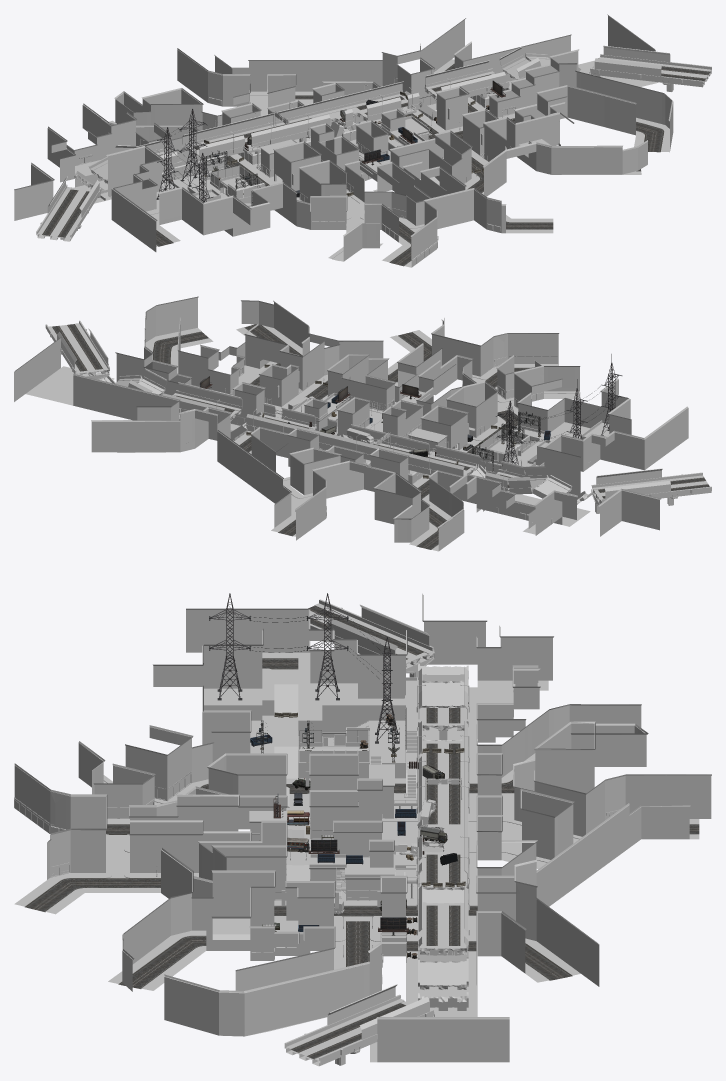
The model's file is Breakdown_World.obj.
3 renders of one model, top to bottom at view 1: azimuth 30°, elevation 25°; view 2: azimuth 150°, elevation 25°; view 3: azimuth 270°, elevation 25°, orthographic. The views are drawn at different scales.
Visible parts, largest first — view 1: Breakdown_Building, Breakdown_overpass, Breakdown_road, Breakdown_obj1, Breakdown_Building_Alpha_, Breakdown_obj2, Wire_01,Wire_02,Wire_03; view 2: Breakdown_Building, Breakdown_overpass, Breakdown_road, Breakdown_obj1, Breakdown_Building_Alpha_, Breakdown_obj2; view 3: Breakdown_Building, Breakdown_road, Breakdown_overpass, Breakdown_obj1, Breakdown_obj2, Breakdown_Building_Alpha_.
Boxes of the visible parts, x1=… form: Breakdown_Building: x1=14, y1=14, x2=673, y2=267; Breakdown_overpass: x1=36, y1=45, x2=711, y2=241; Breakdown_road: x1=74, y1=59, x2=673, y2=267; Breakdown_obj1: x1=156, y1=108, x2=353, y2=206; Breakdown_Building_Alpha_: x1=163, y1=88, x2=509, y2=198; Breakdown_obj2: x1=330, y1=80, x2=512, y2=176; Wire_01,Wire_02,Wire_03: x1=171, y1=88, x2=505, y2=199; Breakdown_Building: x1=14, y1=296, x2=688, y2=550; Breakdown_overpass: x1=45, y1=320, x2=711, y2=513; Breakdown_road: x1=26, y1=324, x2=609, y2=551; Breakdown_obj1: x1=409, y1=354, x2=622, y2=478; Breakdown_Building_Alpha_: x1=179, y1=416, x2=529, y2=483; Breakdown_obj2: x1=199, y1=364, x2=421, y2=447; Breakdown_Building: x1=14, y1=593, x2=711, y2=1062; Breakdown_road: x1=14, y1=652, x2=699, y2=1062; Breakdown_overpass: x1=284, y1=599, x2=469, y2=1066; Breakdown_obj1: x1=209, y1=593, x2=464, y2=825; Breakdown_obj2: x1=156, y1=794, x2=465, y2=958; Breakdown_Building_Alpha_: x1=299, y1=731, x2=463, y2=955.
Bounding box in the file's own units: 313 × 44.37 × 201.
